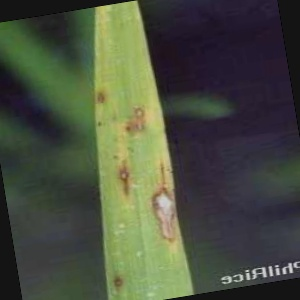Brown_Spot: (144, 178, 183, 248), (128, 100, 160, 139), (107, 154, 139, 192), (92, 85, 118, 117)
